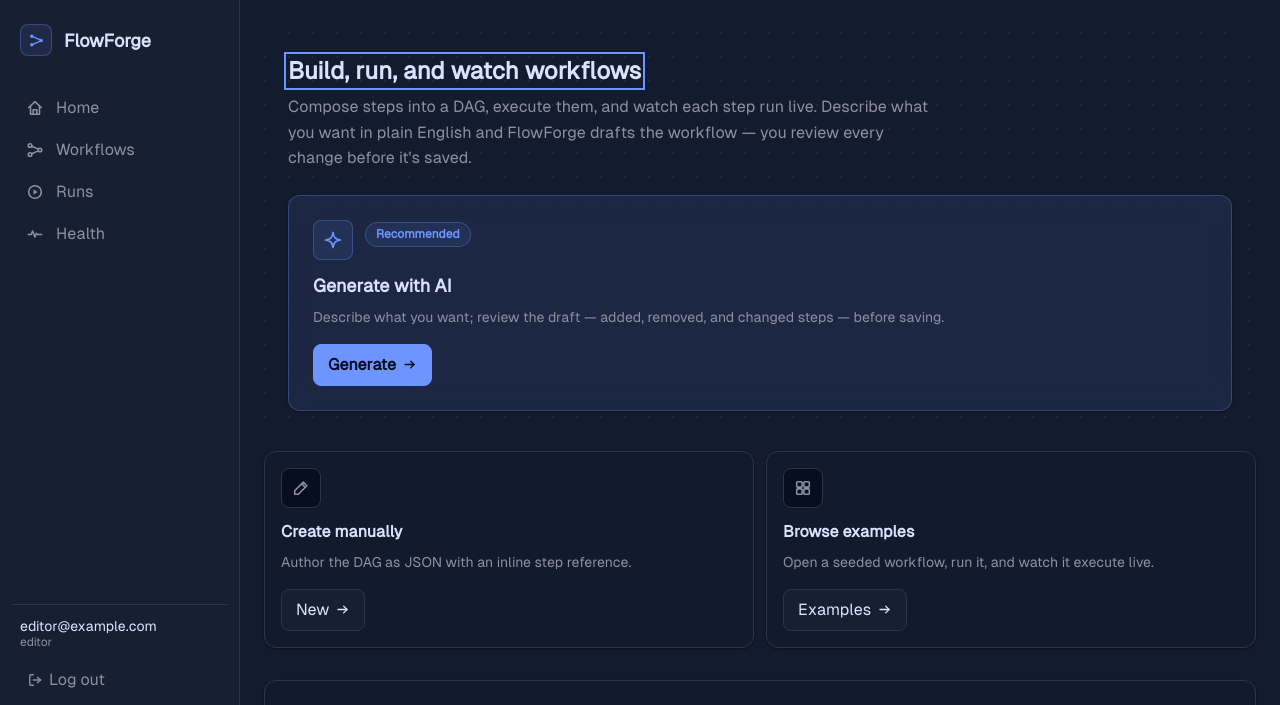
Scenario: App routing + auth › moves focus to the new page's <h1> on route change (SPA navigation strands screen-reader focus otherwise)
The image size is (1280, 705).
expect the heading "Build, run, and watch workflows" is shown: met, box 288,56 -> 641,86
Click the link "Runs" at (60, 192), box 26,182 -> 94,201
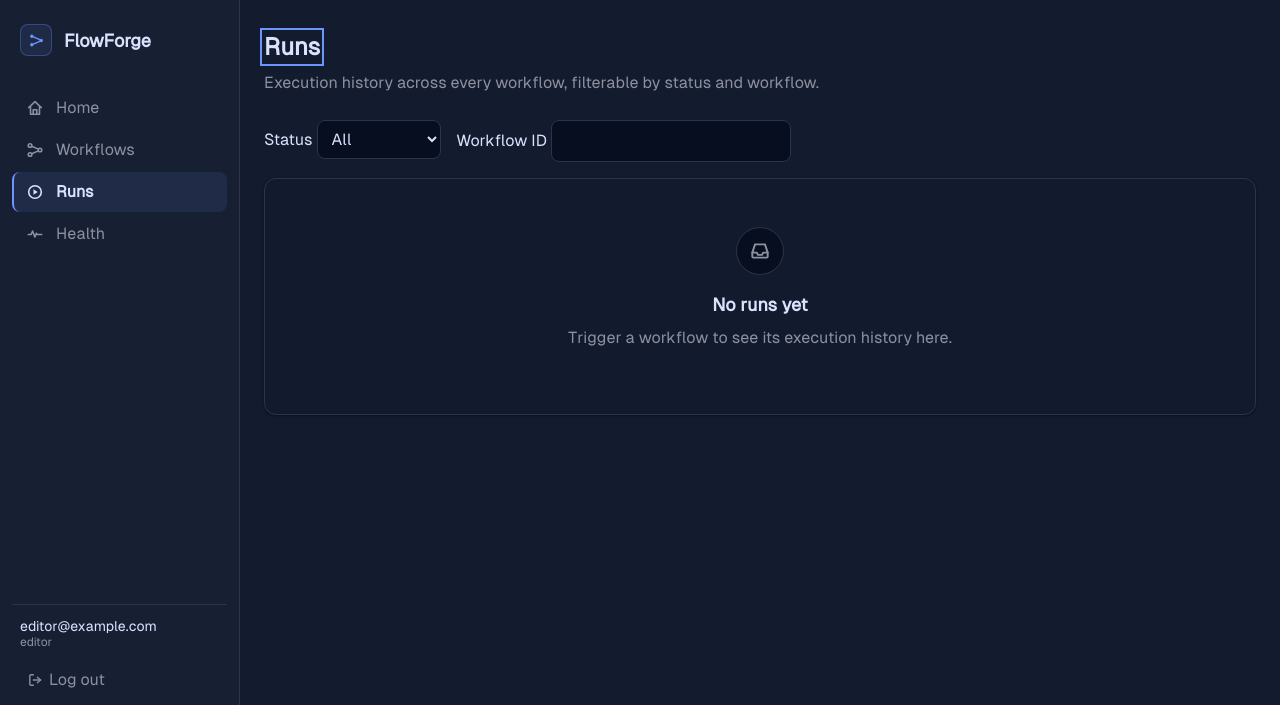
expect the heading "Runs" is shown: met, box 264,32 -> 320,62
